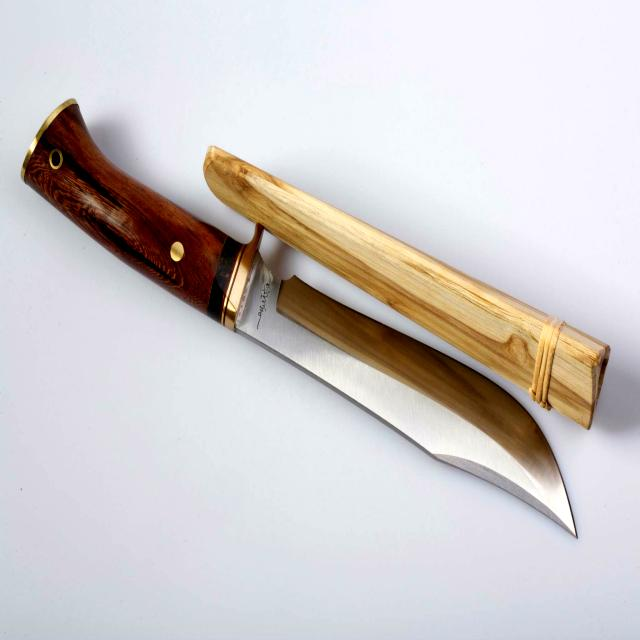short sword: (17, 82, 620, 568)
